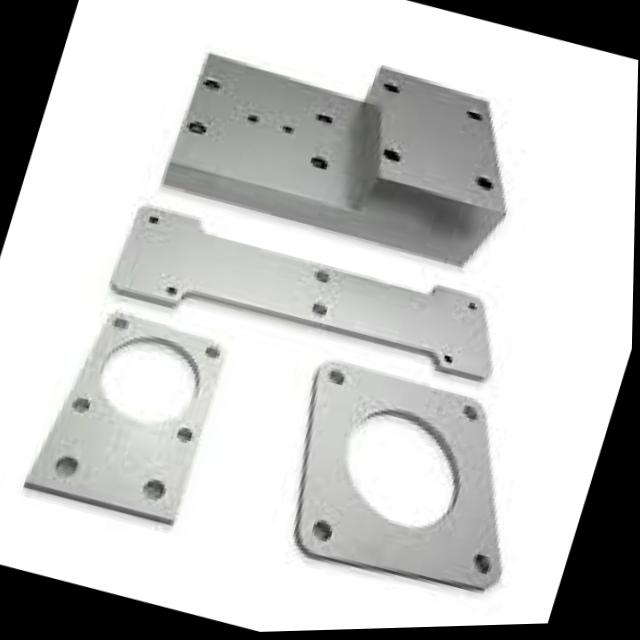holes: (328, 399, 481, 536), (86, 327, 215, 437), (131, 472, 176, 504), (55, 452, 91, 483), (312, 518, 342, 549), (306, 153, 333, 178), (201, 73, 226, 96), (470, 174, 496, 195), (184, 118, 211, 138), (383, 144, 405, 168), (464, 105, 489, 125), (381, 78, 405, 96), (462, 407, 484, 425), (314, 112, 335, 129), (328, 368, 346, 386), (315, 268, 332, 285), (309, 301, 328, 316), (167, 282, 182, 298), (465, 298, 482, 312), (444, 350, 457, 363), (149, 216, 163, 228), (246, 113, 260, 124), (165, 284, 180, 294), (283, 125, 295, 137)
